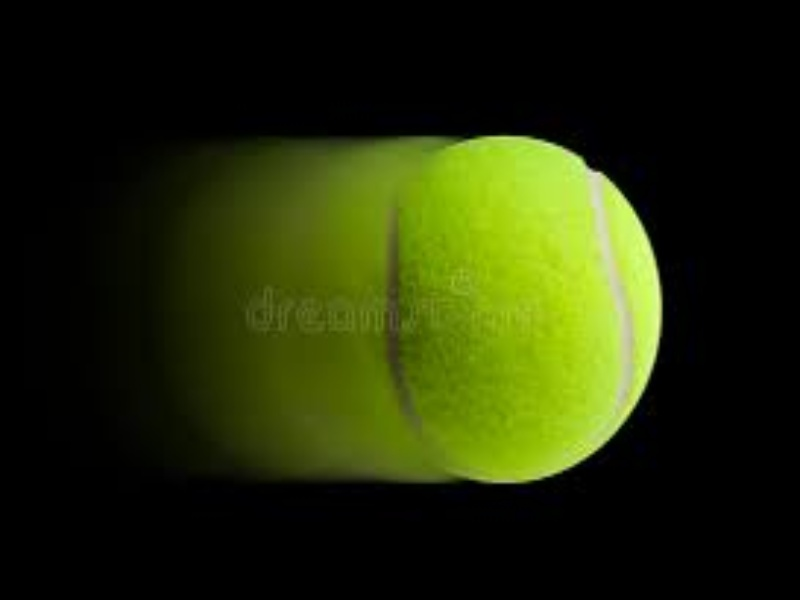tennis ball: (165, 77, 670, 532)
